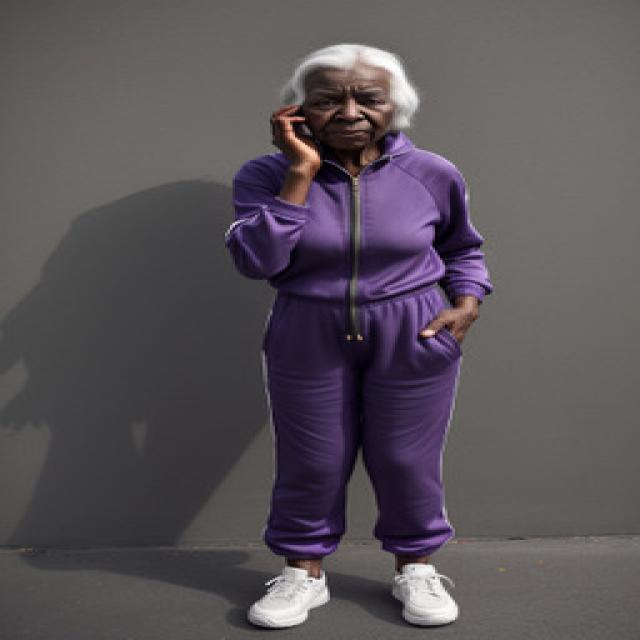Ai human 2: (192, 28, 510, 640)
